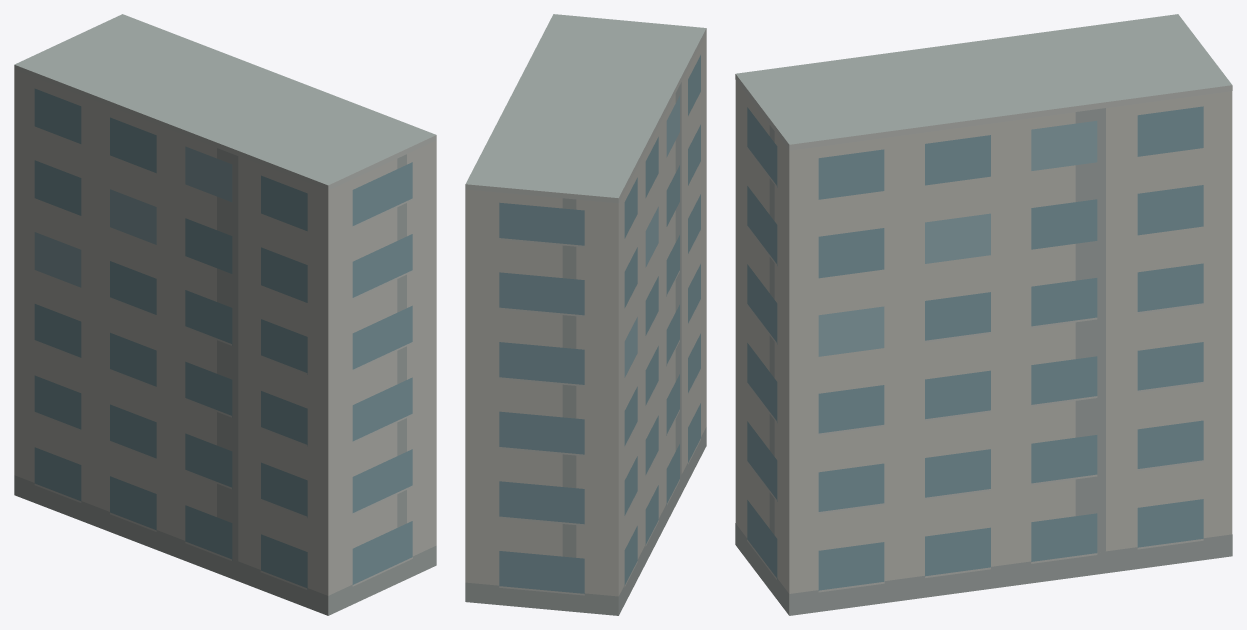
The model's file is survey-upis-32935165.glb.
3 renders of one model, left to right at view 1: azimuth 30°, elevation 25°; view 2: azimuth 150°, elevation 25°; view 3: azimuth 270°, elevation 25°, orthographic. The views are drawn at different scales.
Parts seen in each view (by area): view 1: survey-upis-32935165.tmp; view 2: survey-upis-32935165.tmp; view 3: survey-upis-32935165.tmp.
Part boxes in pixels (x1,y1,x2,y2): survey-upis-32935165.tmp: [14, 14, 436, 615]; survey-upis-32935165.tmp: [465, 14, 706, 615]; survey-upis-32935165.tmp: [735, 14, 1232, 615].
Size of the model in its own units: 11.73 by 19.7 by 18.85.
